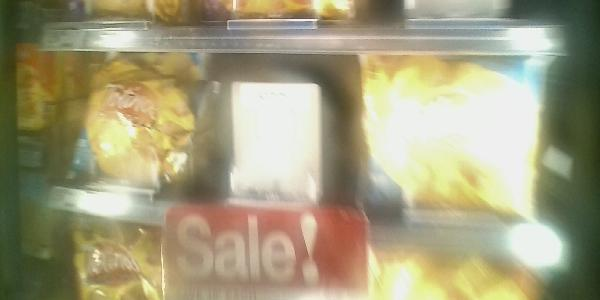icecream: (358, 52, 547, 223), (53, 53, 199, 200)
